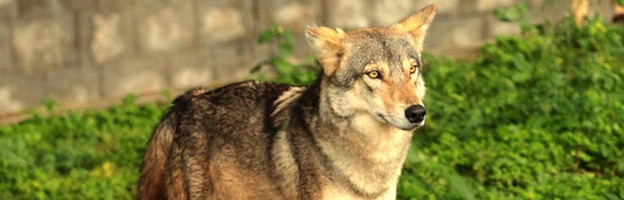wolf: (140, 3, 443, 200)
